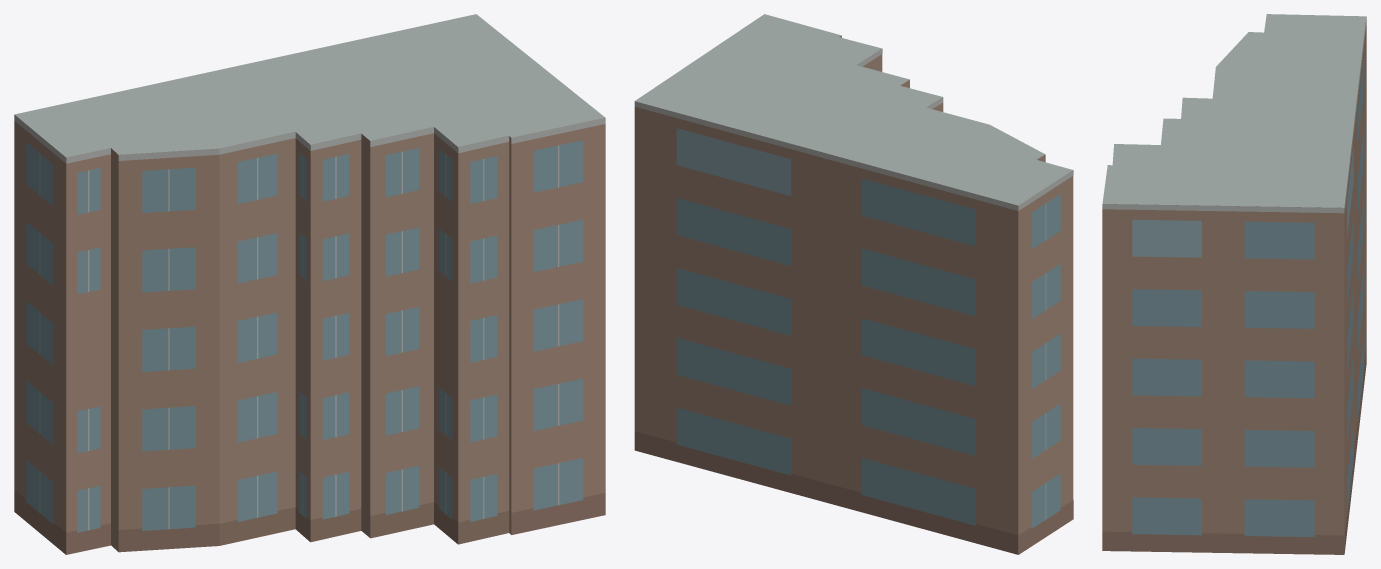
Rendered from survey-upis-32875928.glb.
3 views of the same model, side by side, from view 1: azimuth 30°, elevation 25°; view 2: azimuth 150°, elevation 25°; view 3: azimuth 270°, elevation 25° (orthographic). The views are drawn at different scales.
Parts seen in each view (by area): view 1: survey-upis-32875928.tmp; view 2: survey-upis-32875928.tmp; view 3: survey-upis-32875928.tmp.
Boxes of the visible parts, x1=… form: survey-upis-32875928.tmp: x1=14, y1=14, x2=605, y2=554; survey-upis-32875928.tmp: x1=634, y1=14, x2=1073, y2=554; survey-upis-32875928.tmp: x1=1102, y1=14, x2=1366, y2=554.
Size of the model in its own units: 18.81 by 15.7 by 10.84.
